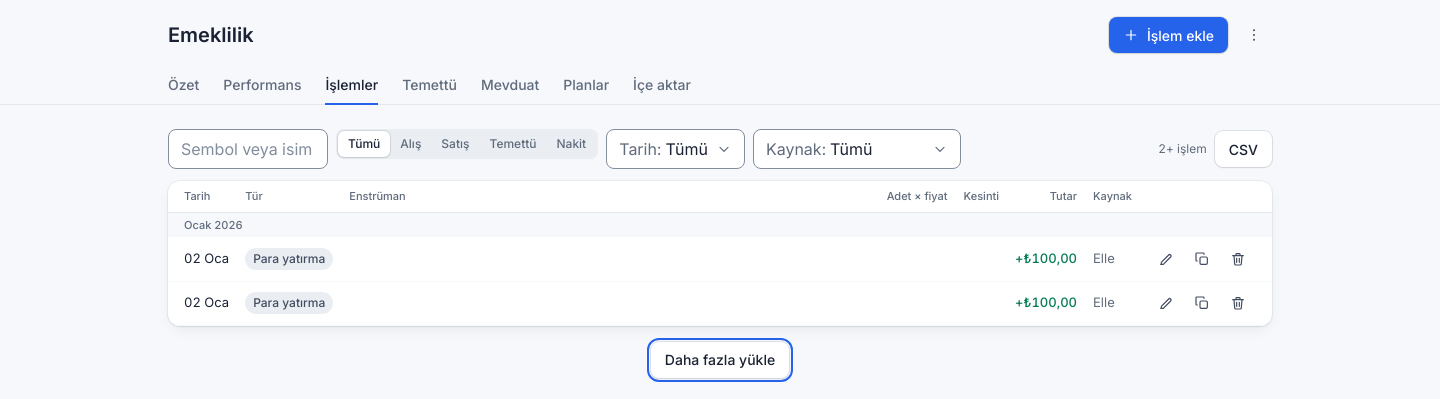
TransactionsPage › loads the next page from the cursor when asked for more
Expected: the number of buttons named "işlemini düzenle" is 2, [1148,241,1184,277]; [1148,285,1184,321]
Expected: the text "2+ işlem" is shown, [1158,140,1207,158]
Click the button "Daha fazla yükle" at {"x": 720, "y": 360}, box [651,342,789,378]
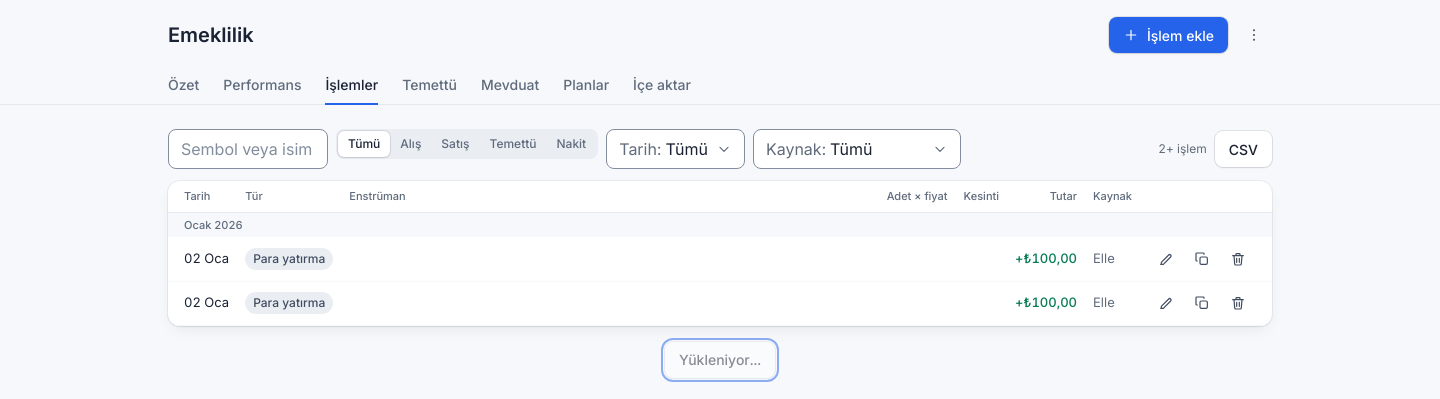
Now the button named "Daha fazla yükle" is enabled
Click the button named "Daha fazla yükle" at {"x": 720, "y": 360}, box [665,342,775,378]
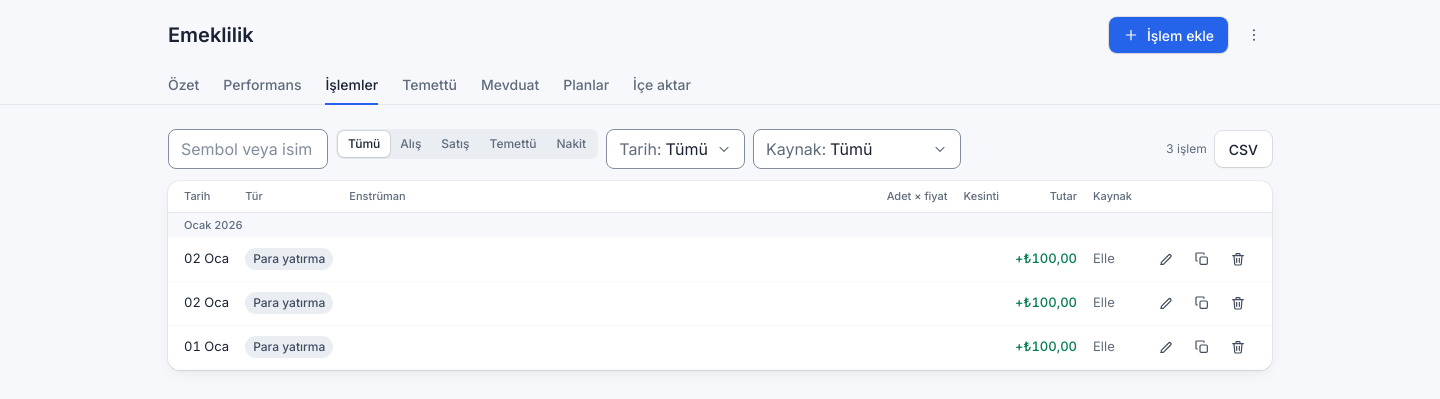
Expected: the button "Daha fazla yükle" is not shown
Now the number of buttons named "işlemini düzenle" is 3, box [1148,241,1184,277]; [1148,285,1184,321]; [1148,329,1184,365]
Now the text "3 işlem" is shown, box [1166,140,1207,158]
